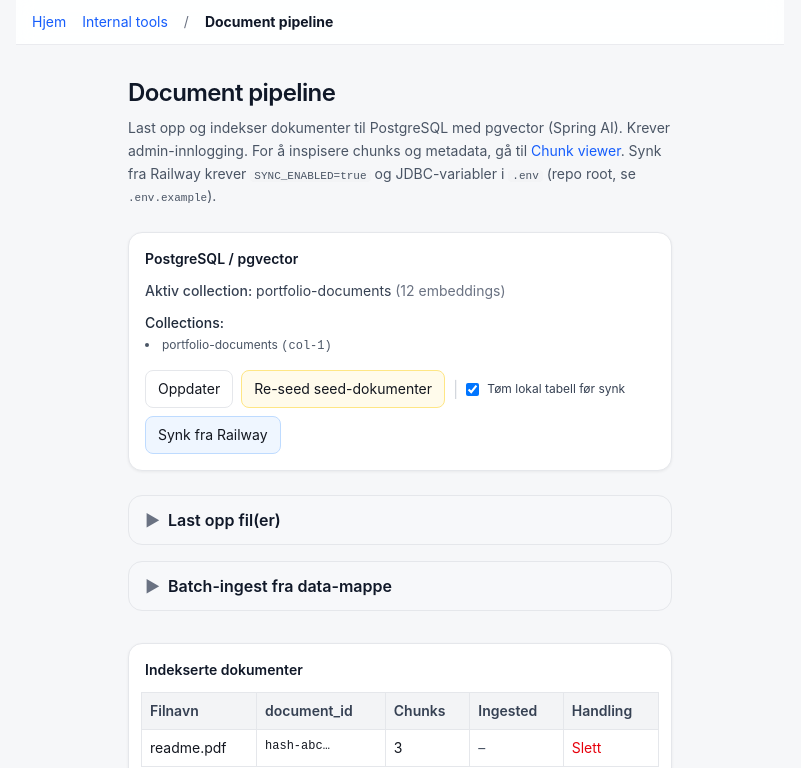
Test: Admin CRUD views (integration-style) › AdminPipelineView completes reseed when confirmed
The image size is (801, 768).
Step 1. Click the button "Re-seed seed-dokumenter" → [343, 389], box [241, 370, 445, 408]
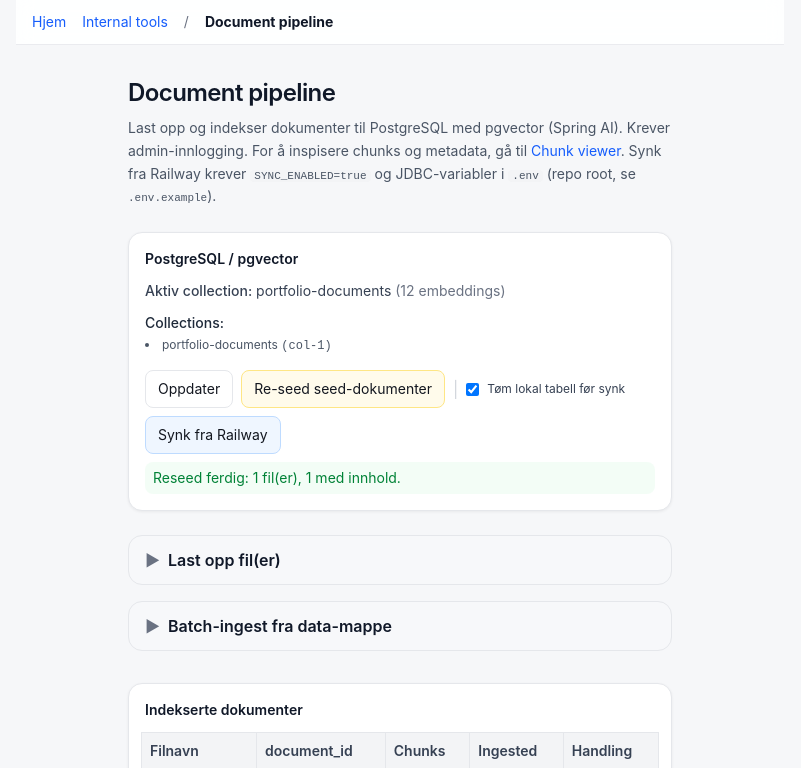
Check: the text "Reseed ferdig" is shown, box [153, 469, 401, 486]
